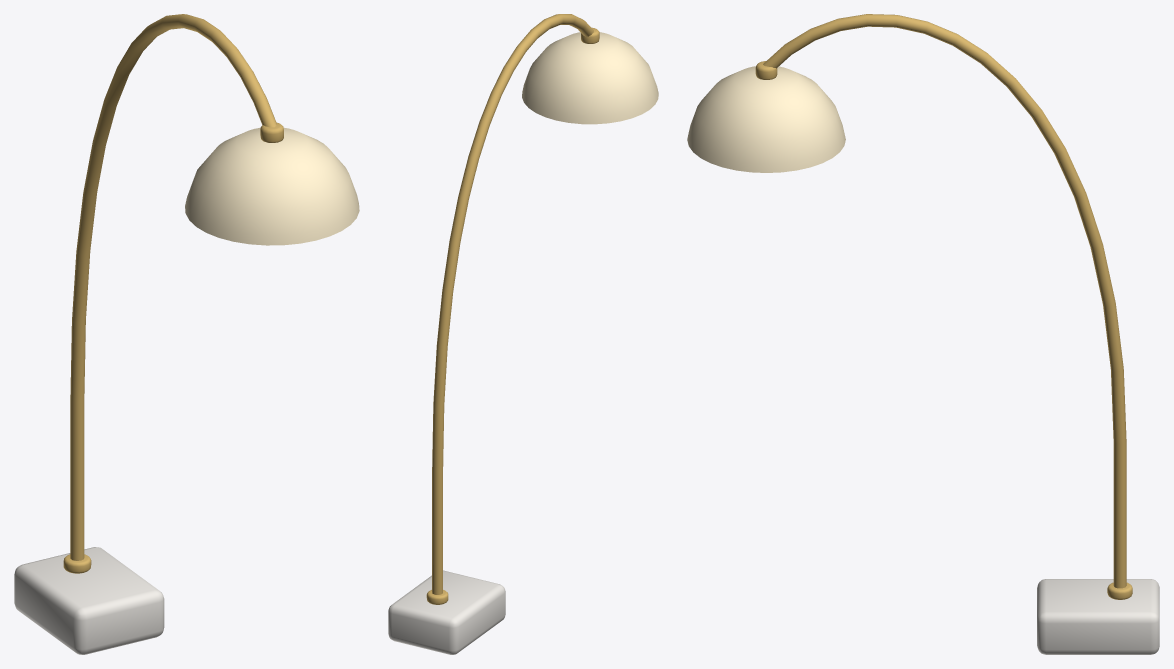
File: floor_lamp.glb
3 views of the same model, side by side, from view 1: azimuth 30°, elevation 25°; view 2: azimuth 150°, elevation 25°; view 3: azimuth 270°, elevation 25° (orthographic). The views are drawn at different scales.
Parts seen in each view (by area): view 1: emissive_shade, brass, marble; view 2: emissive_shade, brass, marble; view 3: emissive_shade, brass, marble.
Boxes of the visible parts, x1,y1,x2,y2 form: emissive_shade: (185,127,359,245); brass: (63,14,283,573); marble: (14,547,164,654); emissive_shade: (522,32,658,124); brass: (426,14,599,604); marble: (388,570,505,654); emissive_shade: (687,66,845,172); brass: (755,14,1132,599); marble: (1037,579,1159,654).
Size of the model in its own units: 0.44 by 1.91 by 1.31.
